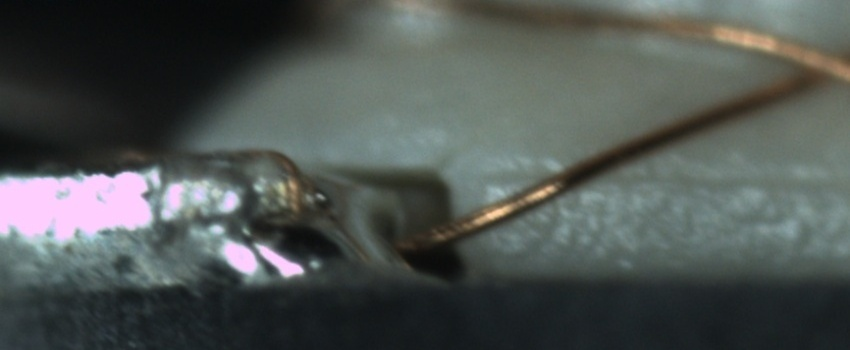CL: (763, 38, 848, 101)
DL: (479, 149, 849, 208)
TE: (233, 140, 318, 210)
